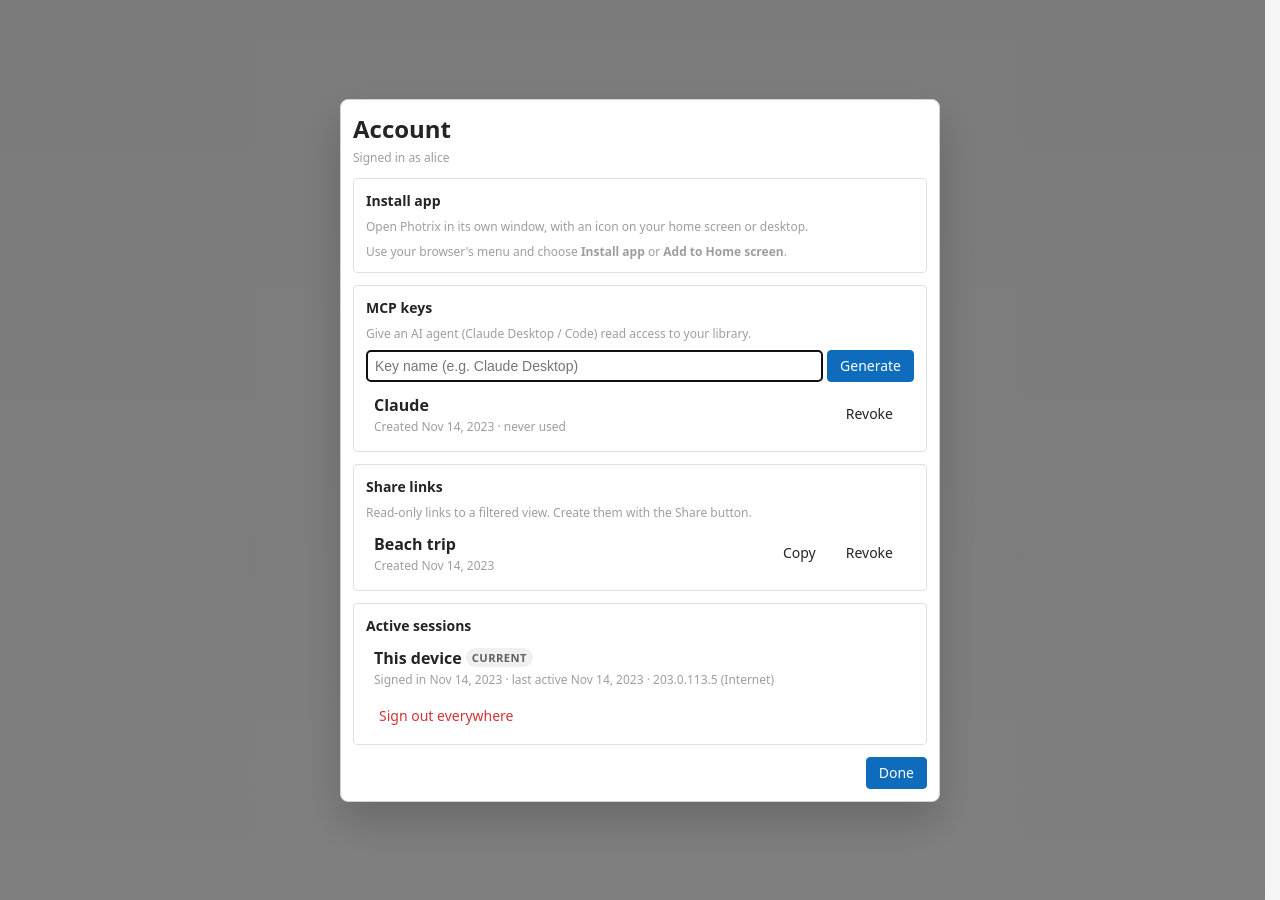
Test case: AccountPanel › reveals a newly generated MCP key exactly once
Expected: the text "Signed in as alice" is shown, left=353, top=148, right=449, bottom=166
Type "Desktop" into the field with placeholder "Key name (e.g. Claude Desktop)" at {"x": 594, "y": 366}, box left=366, top=350, right=823, bottom=382
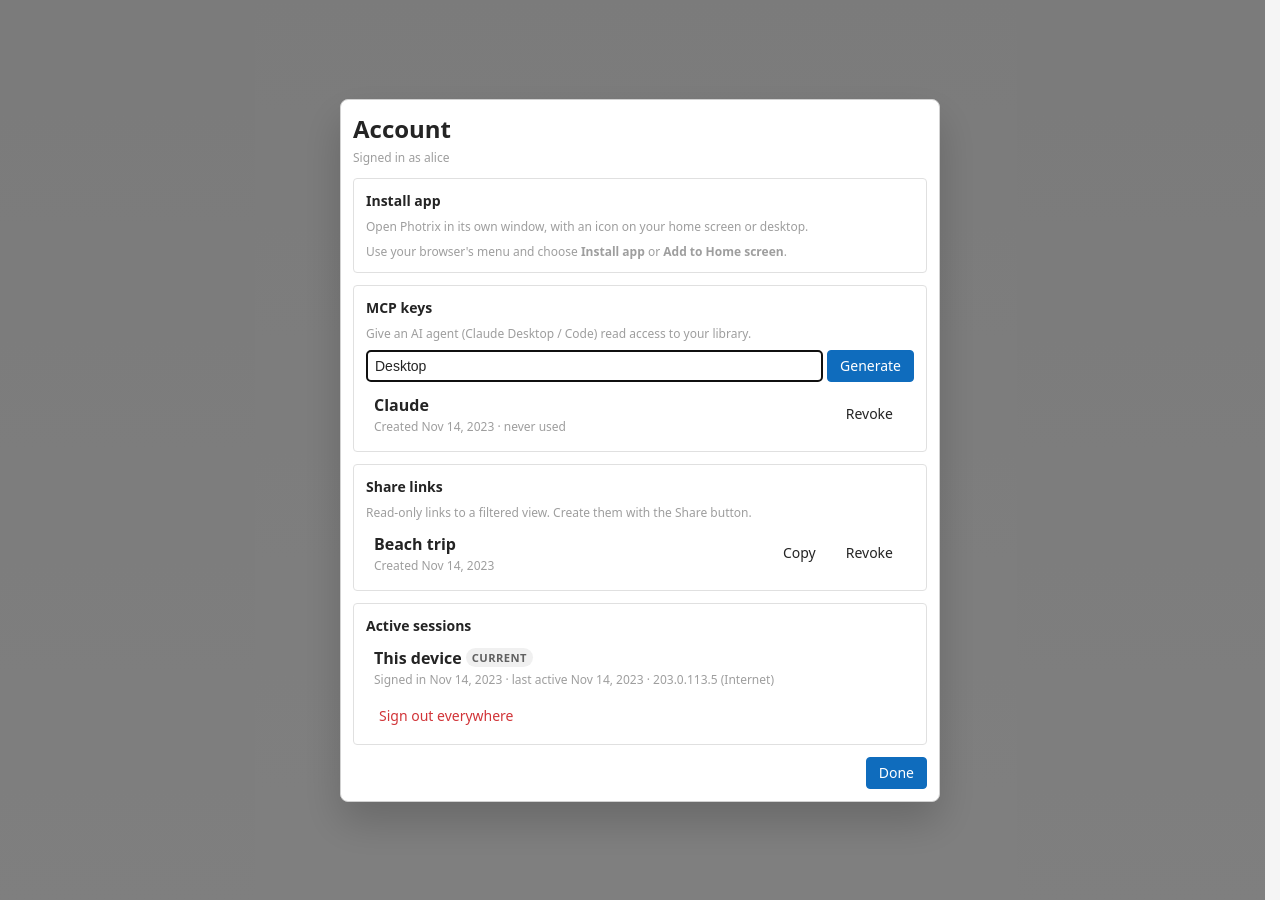
Click the button "Generate" at {"x": 870, "y": 366}, box left=827, top=350, right=914, bottom=382
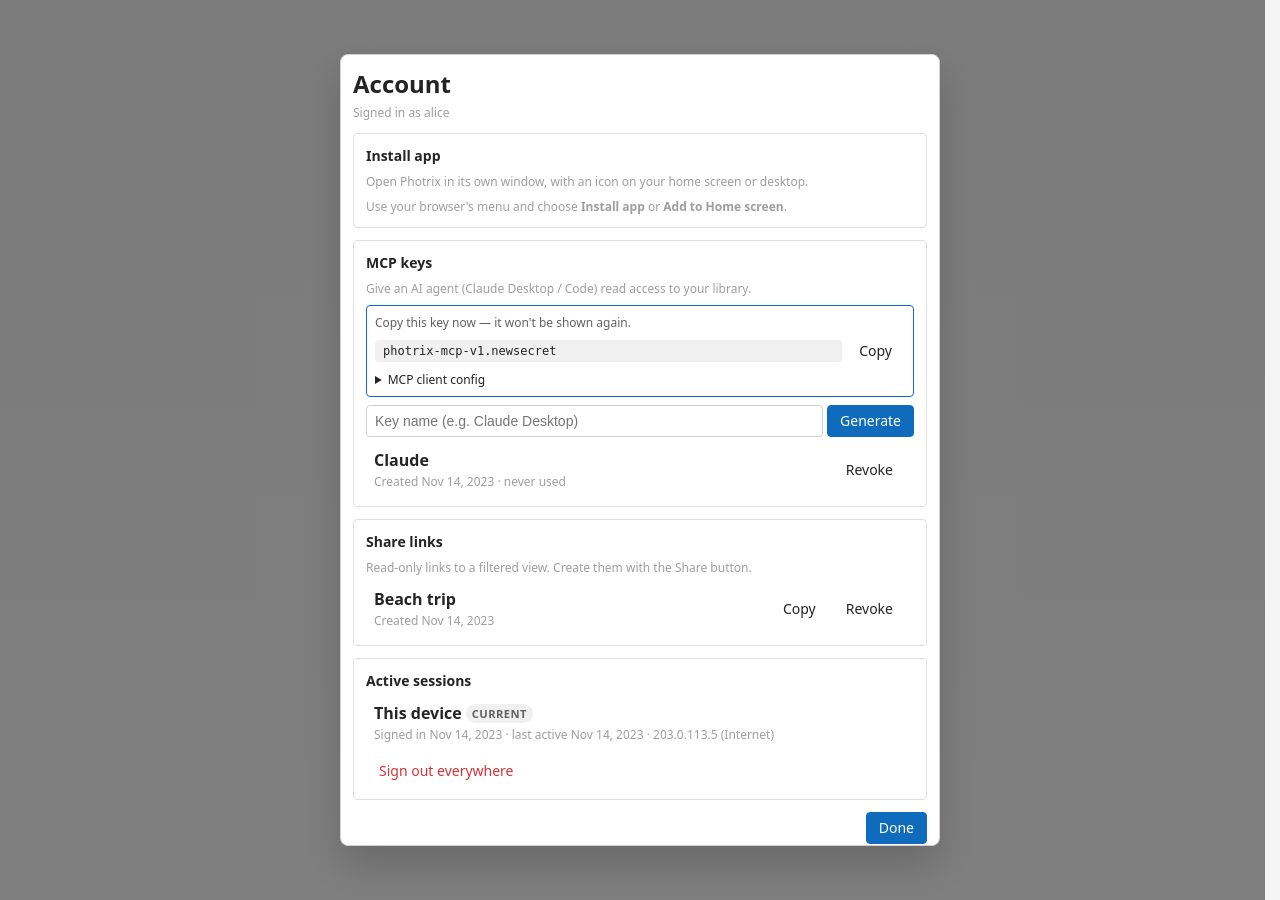
Expected: the text "photrix-mcp-v1.newsecret" is shown, left=375, top=340, right=842, bottom=362
